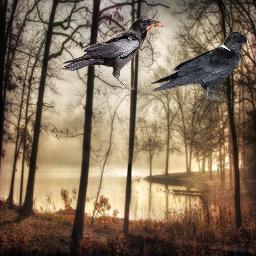Crow: (60, 15, 171, 90), (148, 31, 251, 104)
